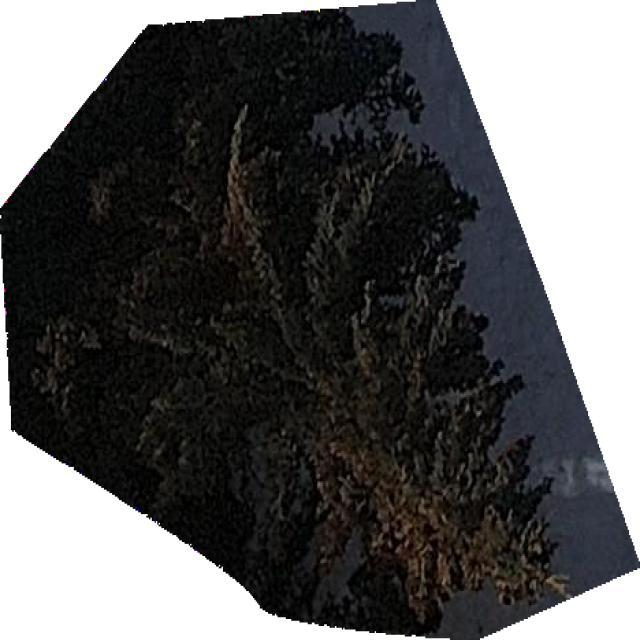pine: (0, 9, 566, 635)
